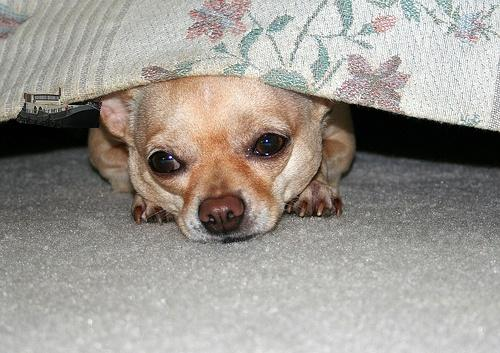tampered: (17, 88, 102, 128)
